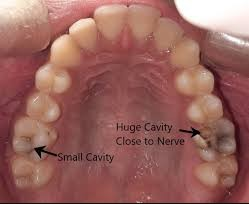UL1BC_healthy: (177, 69, 215, 96)
UL1M_decay: (197, 121, 236, 158)
UL2BC_healthy: (188, 95, 224, 122)
UL2M_healthy: (198, 159, 238, 191)
ULCI_healthy: (128, 5, 157, 43)
ULC_healthy: (172, 40, 200, 68)
ULLI_healthy: (158, 20, 182, 52)
UR1BC_healthy: (35, 63, 73, 93)
UR1M_decay: (10, 120, 59, 159)
UR2BC_healthy: (28, 94, 62, 123)
UR2M_healthy: (11, 159, 52, 188)
URCI_healthy: (94, 5, 127, 41)
URC_healthy: (52, 35, 84, 67)
URLI_healthy: (70, 19, 99, 51)
